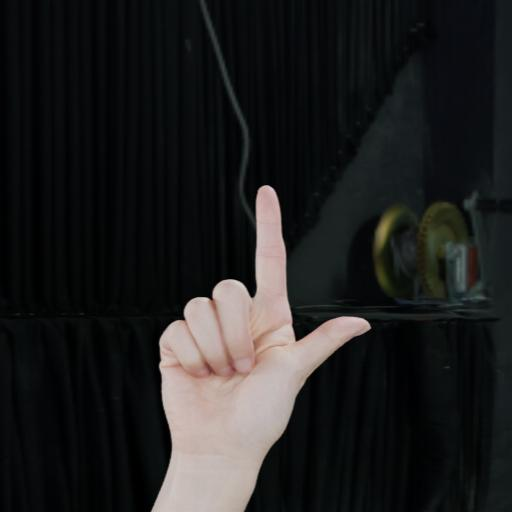L: (112, 167, 393, 482)
